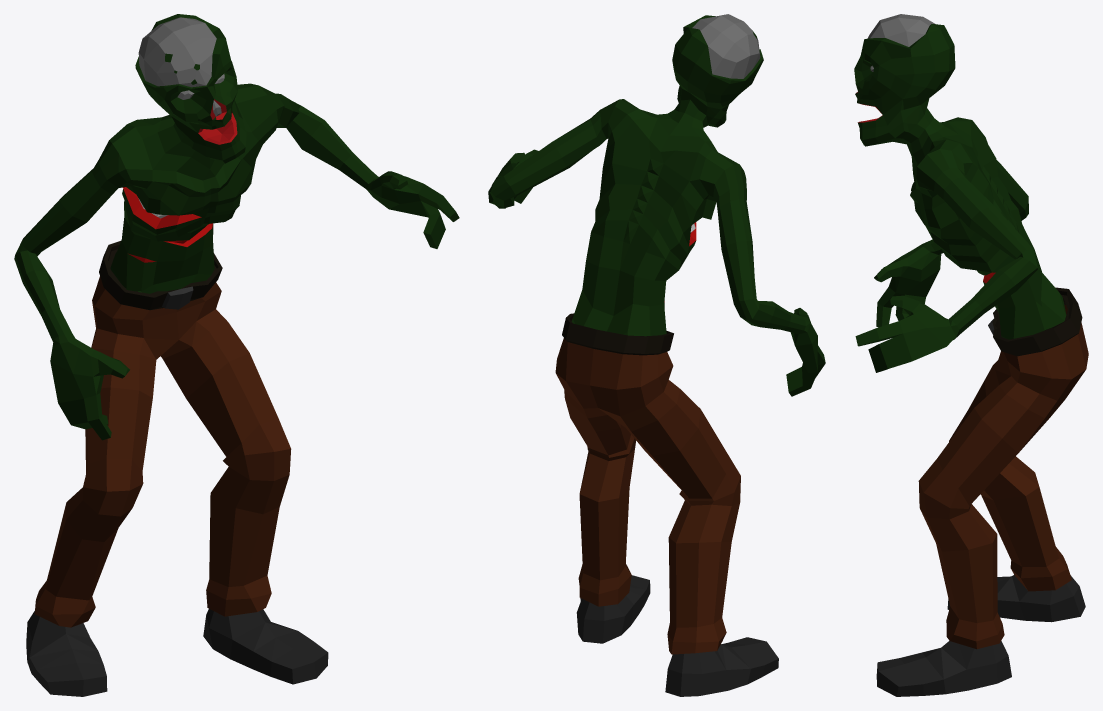
The model's file is zombies.obj.
The picture shows the model from 3 angles, left to right: view 1: azimuth 30°, elevation 25°; view 2: azimuth 150°, elevation 25°; view 3: azimuth 270°, elevation 25°; orthographic projection. The views are drawn at different scales.
Visible parts, largest first — view 1: Zombie_09.001_body.000; view 2: Zombie_09.001_body.000; view 3: Zombie_09.001_body.000.
Boxes of the visible parts, box(x1,y1,x2,y2) form: Zombie_09.001_body.000: box(14, 14, 459, 696); Zombie_09.001_body.000: box(488, 14, 825, 696); Zombie_09.001_body.000: box(854, 14, 1088, 696).
Bounding box in the file's own units: 5.16 × 8.94 × 3.07.
